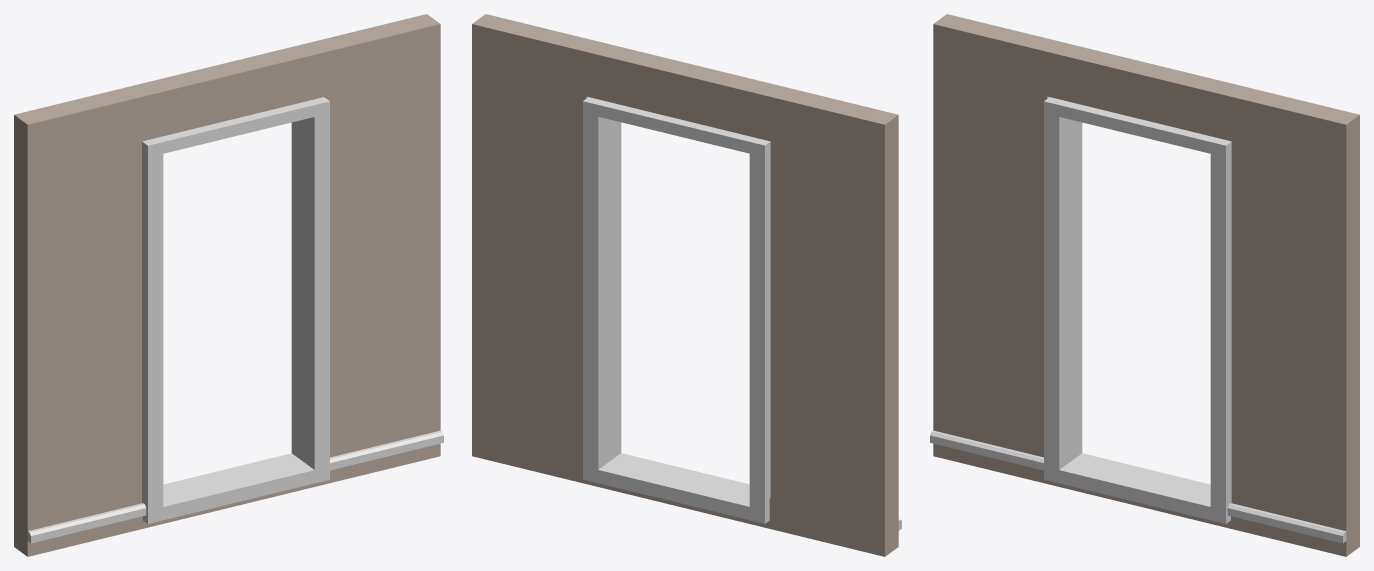
The model's file is WallFloor2_20_dra.glb.
The picture shows the model from 3 angles, left to right: view 1: azimuth 30°, elevation 25°; view 2: azimuth 150°, elevation 25°; view 3: azimuth 330°, elevation 25°; orthographic projection.
Parts seen in each view (by area): view 1: WallFloor2_20; view 2: WallFloor2_20; view 3: WallFloor2_20.
Boxes of the visible parts, box(x1,y1,x2,y2) form: WallFloor2_20: box(14, 14, 443, 556); WallFloor2_20: box(472, 14, 901, 556); WallFloor2_20: box(930, 14, 1359, 556).
Bounding box in the file's own units: 2.5 × 2.5 × 0.2418.
Materials: 1 (1 with a texture image).
